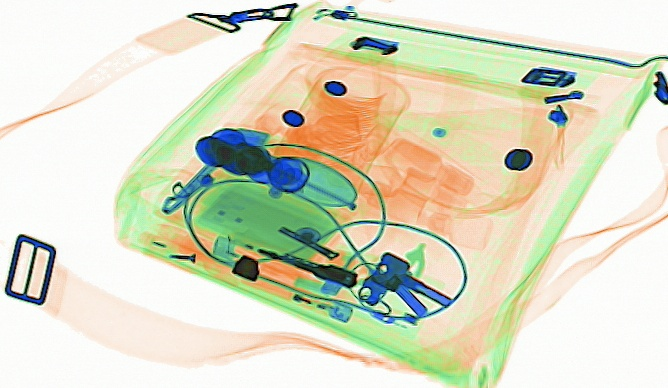lighter: (210, 234, 345, 295), (240, 266, 354, 323)
